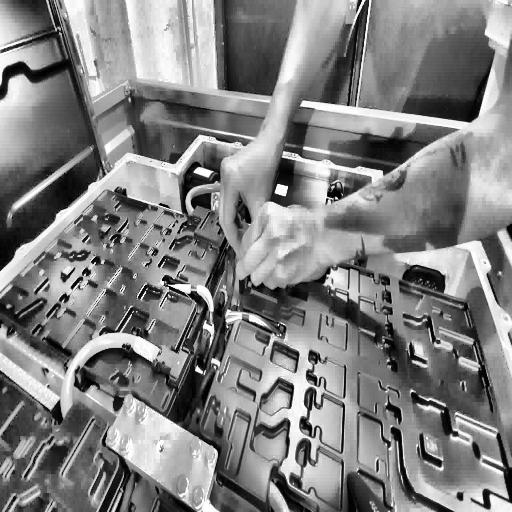high_volt_cable: (60, 329, 158, 421), (184, 174, 221, 218)
low_volt_cable: (171, 274, 284, 345)
nut: (204, 444, 217, 468), (175, 474, 189, 496), (192, 484, 204, 509), (188, 436, 200, 460), (118, 433, 131, 452), (134, 401, 146, 419), (106, 425, 118, 442), (123, 394, 134, 410)
